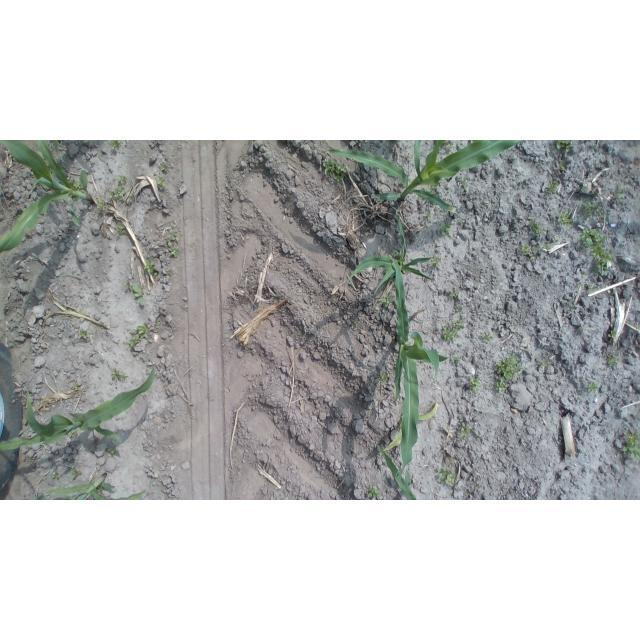Maize: (323, 141, 521, 220), (1, 357, 160, 452), (386, 254, 447, 475), (1, 140, 96, 254), (343, 213, 436, 297), (35, 472, 153, 500), (383, 402, 439, 451), (374, 441, 418, 500)
Weeds: (580, 224, 615, 276), (494, 356, 524, 393), (322, 158, 347, 183), (128, 323, 150, 349), (621, 430, 640, 460), (441, 319, 465, 341), (578, 201, 606, 219), (436, 466, 458, 488), (166, 230, 180, 258), (528, 218, 546, 236), (557, 208, 573, 228), (134, 283, 147, 306), (520, 244, 537, 261), (466, 376, 482, 393), (381, 292, 396, 308), (111, 368, 129, 381), (368, 484, 383, 499), (440, 220, 454, 236), (109, 188, 126, 201), (555, 140, 573, 152), (37, 395, 49, 412), (155, 175, 169, 189), (547, 179, 560, 194), (460, 421, 472, 437), (617, 184, 628, 201), (71, 464, 82, 480), (452, 347, 463, 363), (108, 141, 124, 152), (145, 257, 155, 274), (586, 381, 599, 393), (607, 355, 620, 367), (116, 224, 129, 236), (458, 175, 469, 187), (431, 256, 441, 269), (424, 184, 438, 193), (116, 175, 127, 186), (586, 283, 598, 293), (95, 199, 105, 211), (73, 180, 83, 192), (380, 371, 389, 384), (441, 140, 454, 149), (482, 332, 495, 341), (558, 160, 568, 171), (161, 160, 170, 172), (80, 329, 89, 339), (50, 471, 60, 480), (372, 196, 383, 204), (449, 290, 460, 298), (540, 243, 552, 250), (608, 330, 617, 339), (541, 360, 550, 368), (109, 446, 118, 454), (72, 382, 80, 390), (167, 268, 175, 276), (426, 212, 433, 221), (484, 200, 491, 209), (456, 308, 463, 317), (70, 195, 80, 201), (578, 281, 585, 289), (569, 305, 578, 311), (155, 320, 161, 329), (393, 251, 399, 260), (125, 283, 131, 289), (69, 430, 75, 436), (465, 491, 471, 497), (354, 321, 359, 328), (152, 272, 159, 277), (287, 193, 291, 199), (280, 188, 284, 193), (68, 180, 72, 185)
